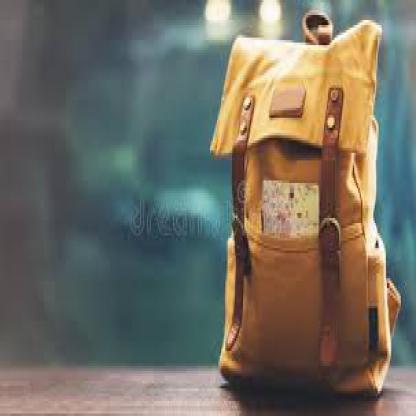morral: (203, 13, 409, 408)
